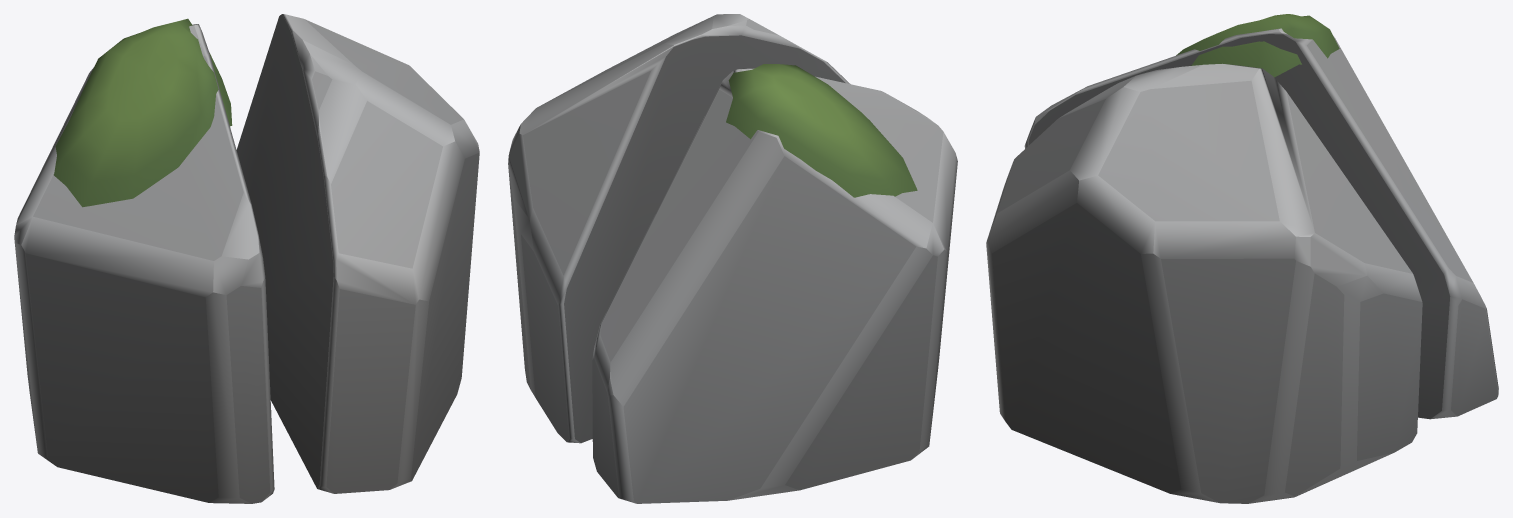
File: rock_split.glb
The picture shows the model from 3 angles, left to right: view 1: azimuth 30°, elevation 25°; view 2: azimuth 150°, elevation 25°; view 3: azimuth 270°, elevation 25°; orthographic projection. The views are drawn at different scales.
Parts seen in each view (by area): view 1: rock_split_LOD0; view 2: rock_split_LOD0; view 3: rock_split_LOD0.
Boxes of the visible parts, <box> form: rock_split_LOD0: <box>14,14,479,503</box>; rock_split_LOD0: <box>508,14,957,503</box>; rock_split_LOD0: <box>986,14,1498,503</box>.
Size of what is drawn, in the model's own units: 1.01 by 0.8732 by 1.09.
